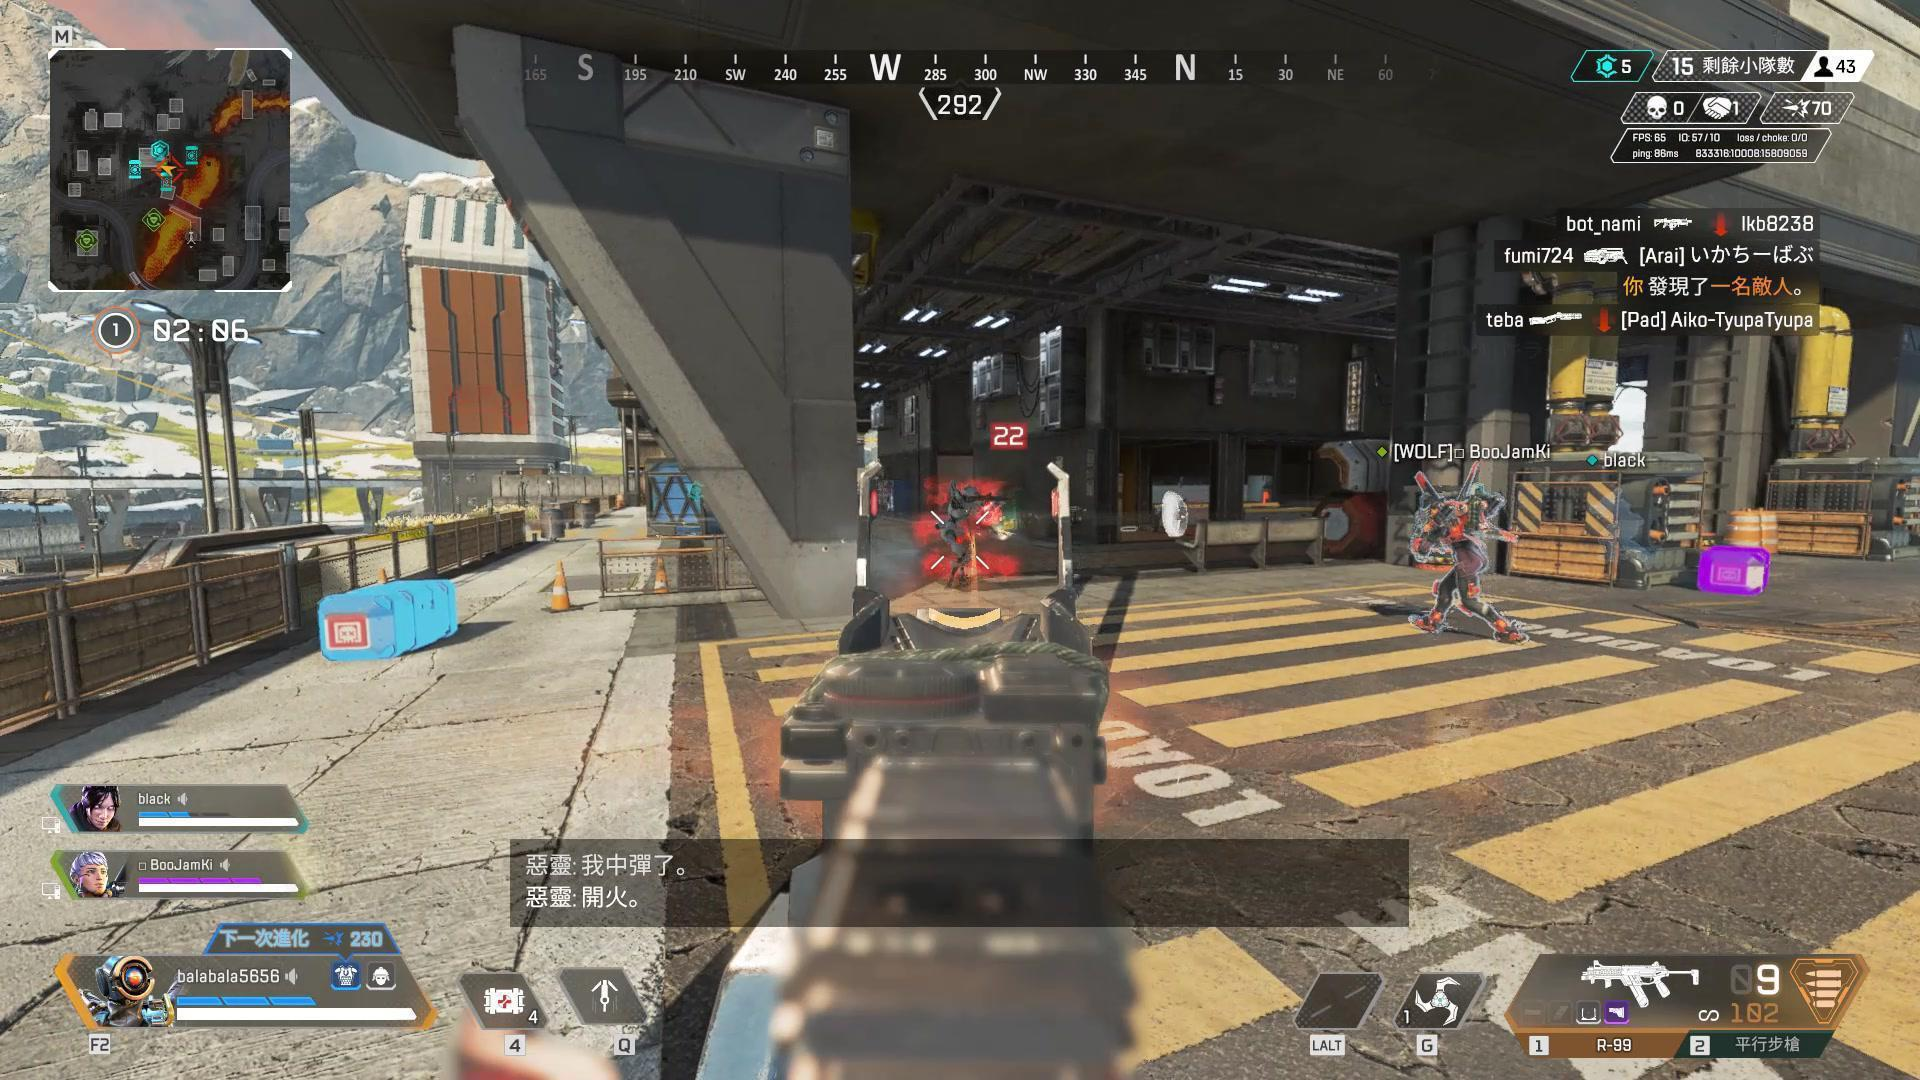avatar: (1409, 485, 1531, 647), (939, 479, 984, 591)
